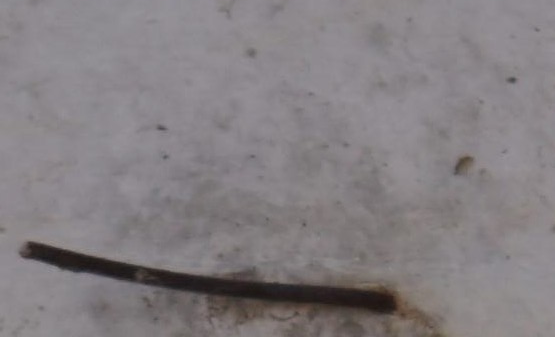Exposed reinforcement: (18, 240, 397, 317)
